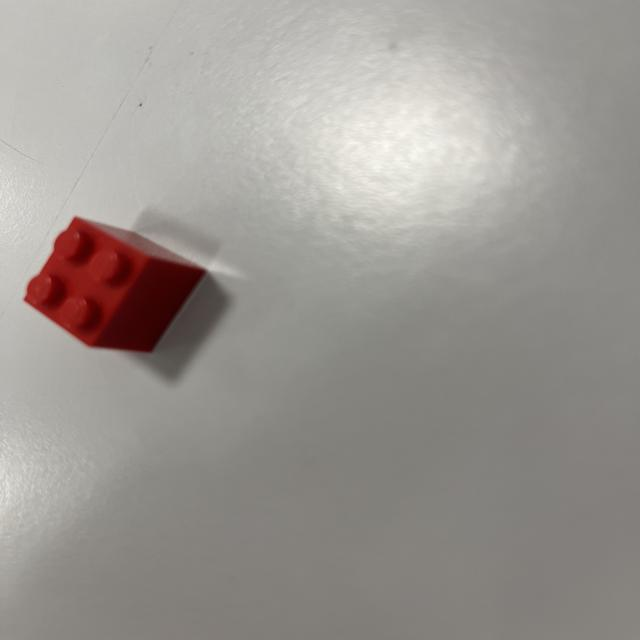C2x2x1: (21, 215, 209, 358)
